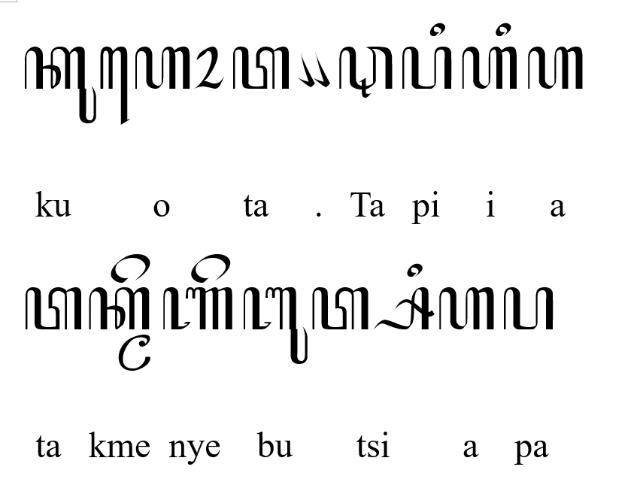T: (338, 45, 392, 98)
_m: (117, 334, 151, 372)
_s: (373, 286, 435, 330)
bu: (242, 286, 308, 364)
e: (109, 252, 151, 283), (190, 252, 230, 283)
e1: (100, 46, 130, 126)
h: (460, 44, 518, 90), (134, 46, 192, 90), (528, 46, 584, 90), (438, 286, 494, 330)
i: (406, 263, 424, 278), (494, 22, 512, 36), (429, 23, 445, 37)
k: (90, 286, 150, 330)
kom: (297, 52, 315, 88), (313, 52, 331, 87)
ku: (24, 45, 96, 123)
ny1: (162, 286, 232, 331)
o: (194, 45, 226, 91)
p: (502, 287, 554, 331), (402, 46, 452, 90)
t: (311, 286, 369, 331), (232, 45, 290, 89), (24, 287, 82, 331)
